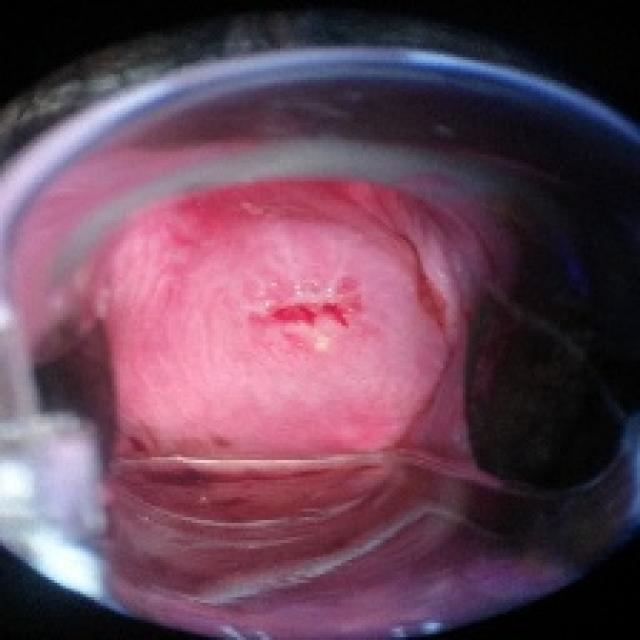type-2: (46, 152, 509, 579)
